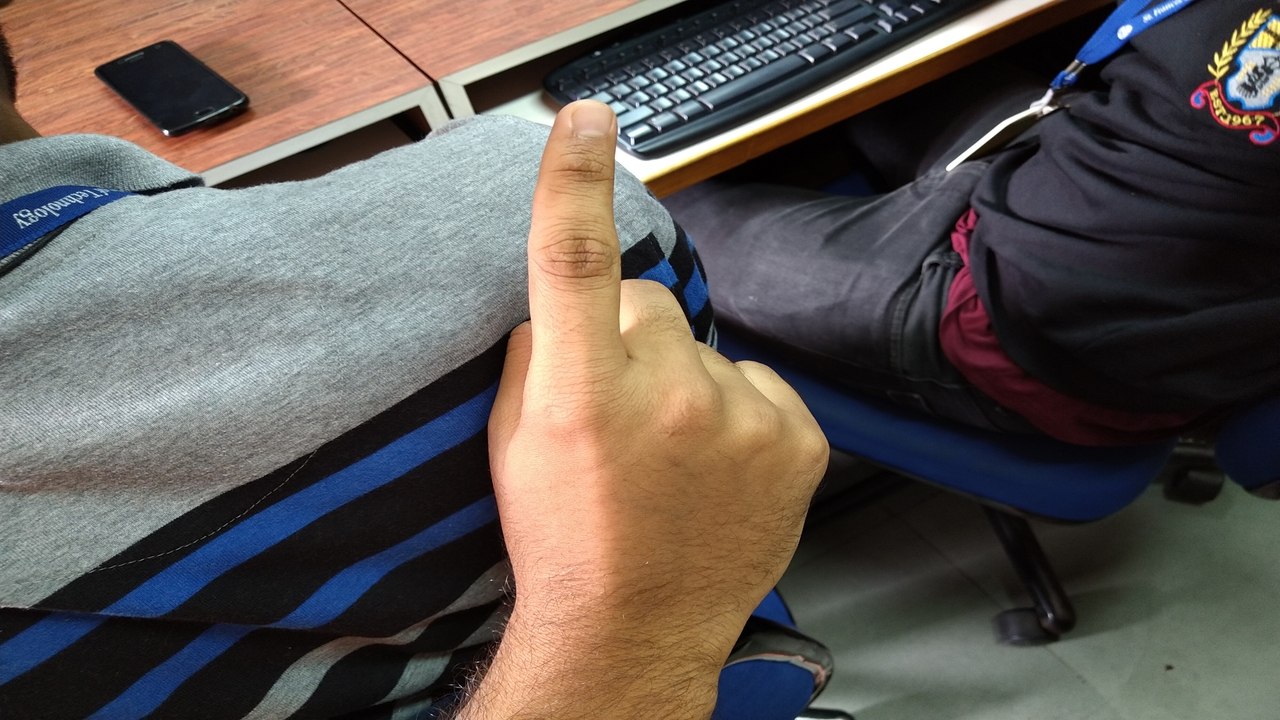fingertip: (542, 92, 622, 160)
